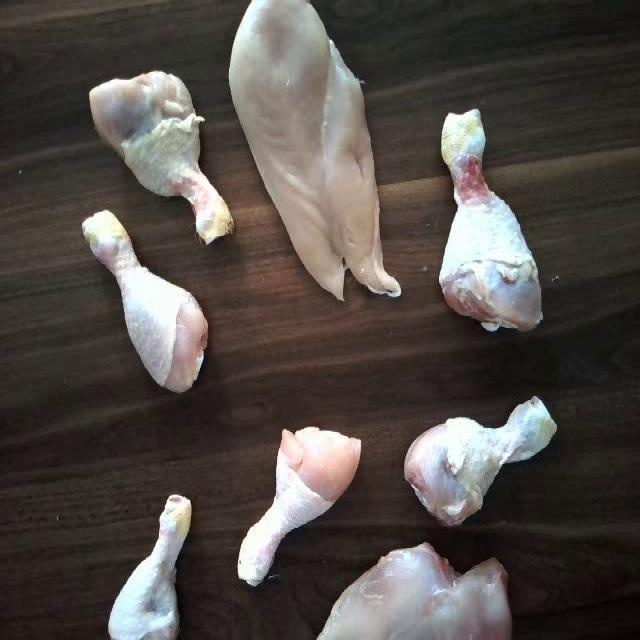breast: (226, 0, 404, 304), (318, 536, 524, 640)
leg: (434, 102, 550, 344), (90, 68, 238, 254), (74, 203, 216, 392), (226, 416, 360, 590), (409, 399, 556, 523), (111, 490, 208, 640)
